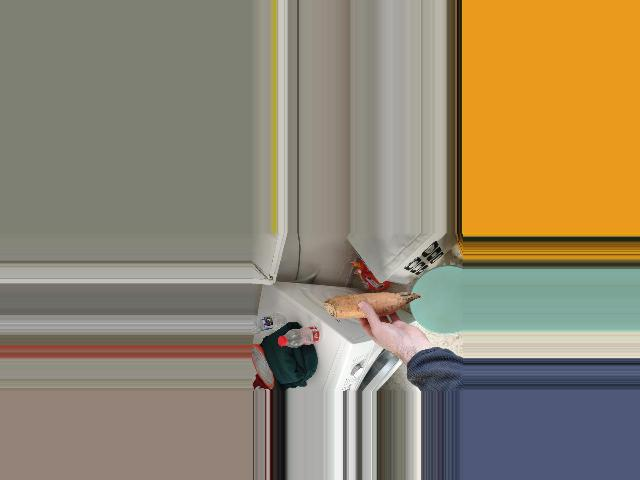sweet_potato: (320, 290, 422, 325)
